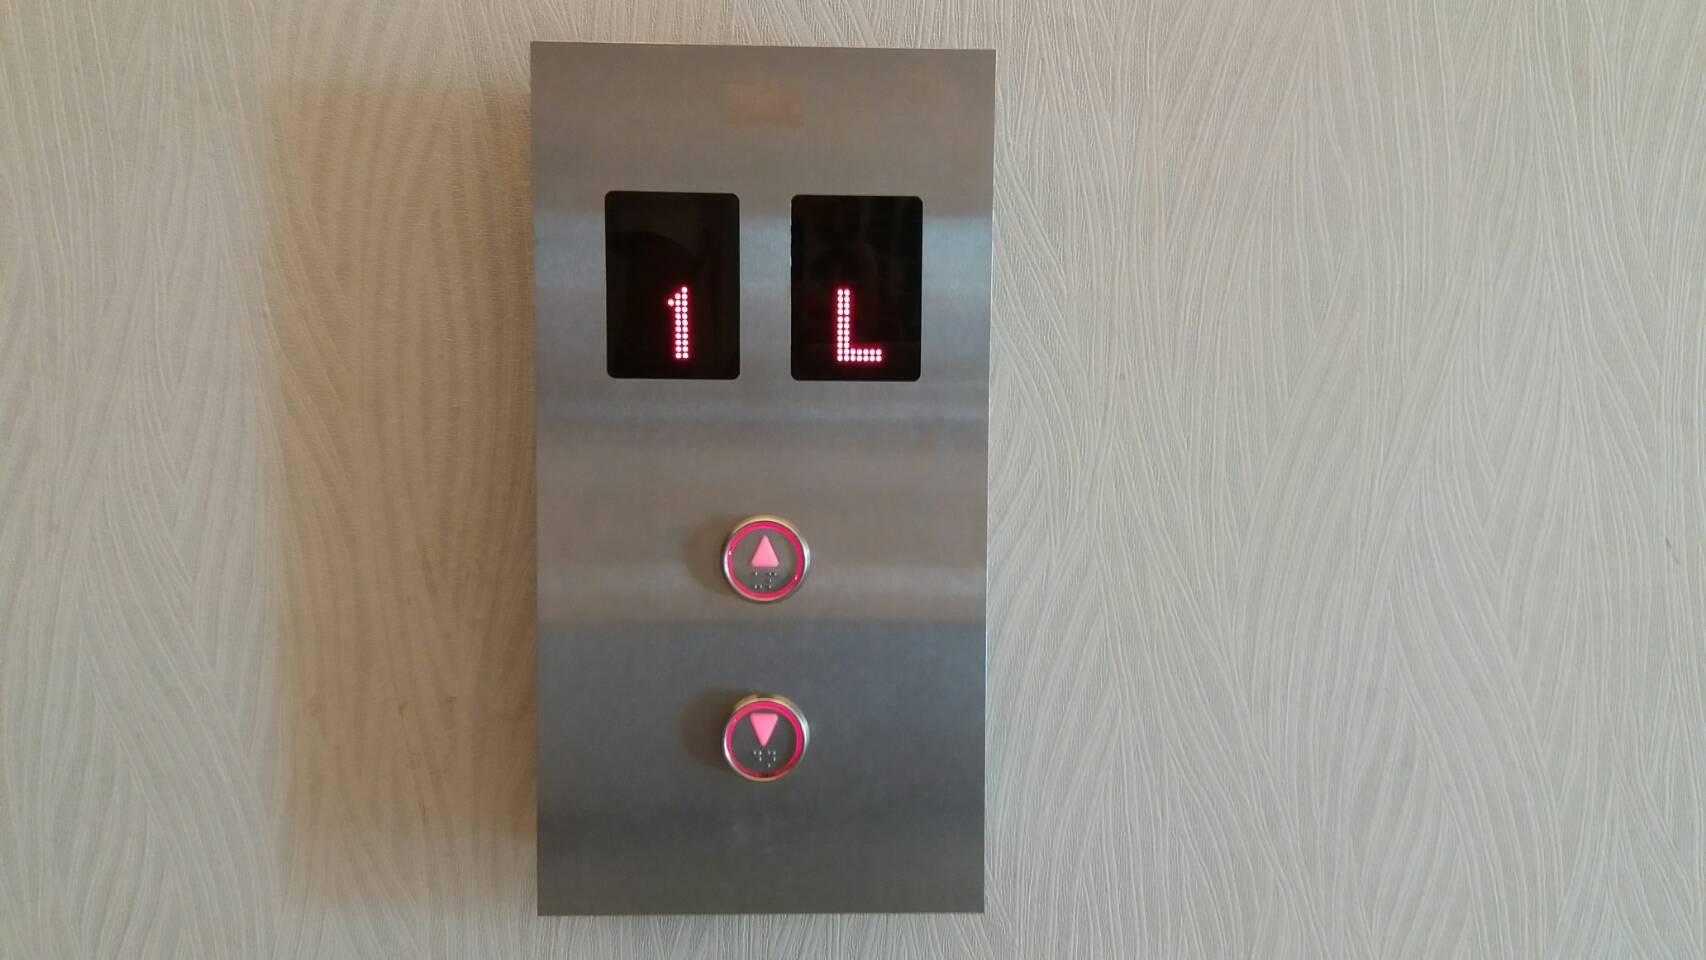down: (714, 690, 814, 788)
led: (774, 185, 932, 399), (593, 181, 748, 392)
up: (716, 508, 812, 608)
